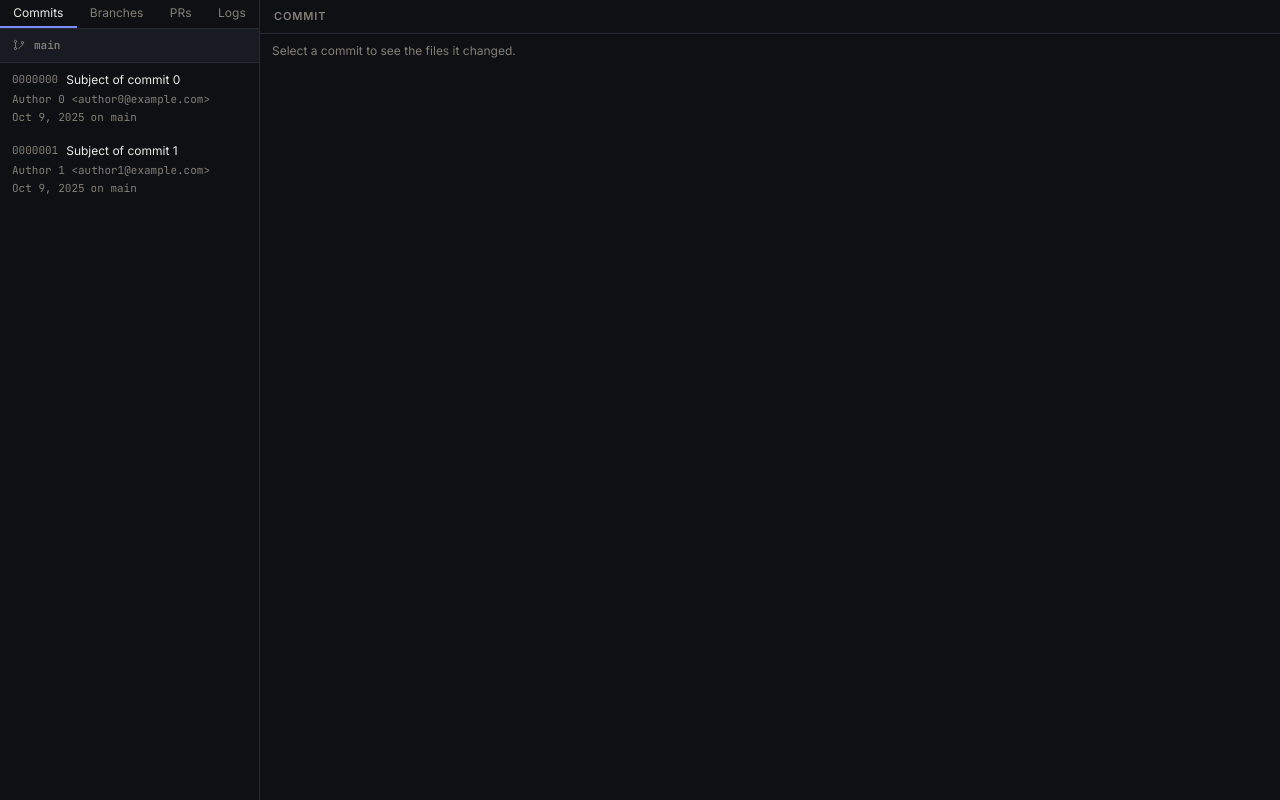
Test: selecting a branch (GIT-FR-LNEI) › GIT-FR-LNEI: a reload that still holds the selected branch keeps the selection, the file and the diff
Click the tab "Branches": {"x": 117, "y": 12} [90,5,143,20]
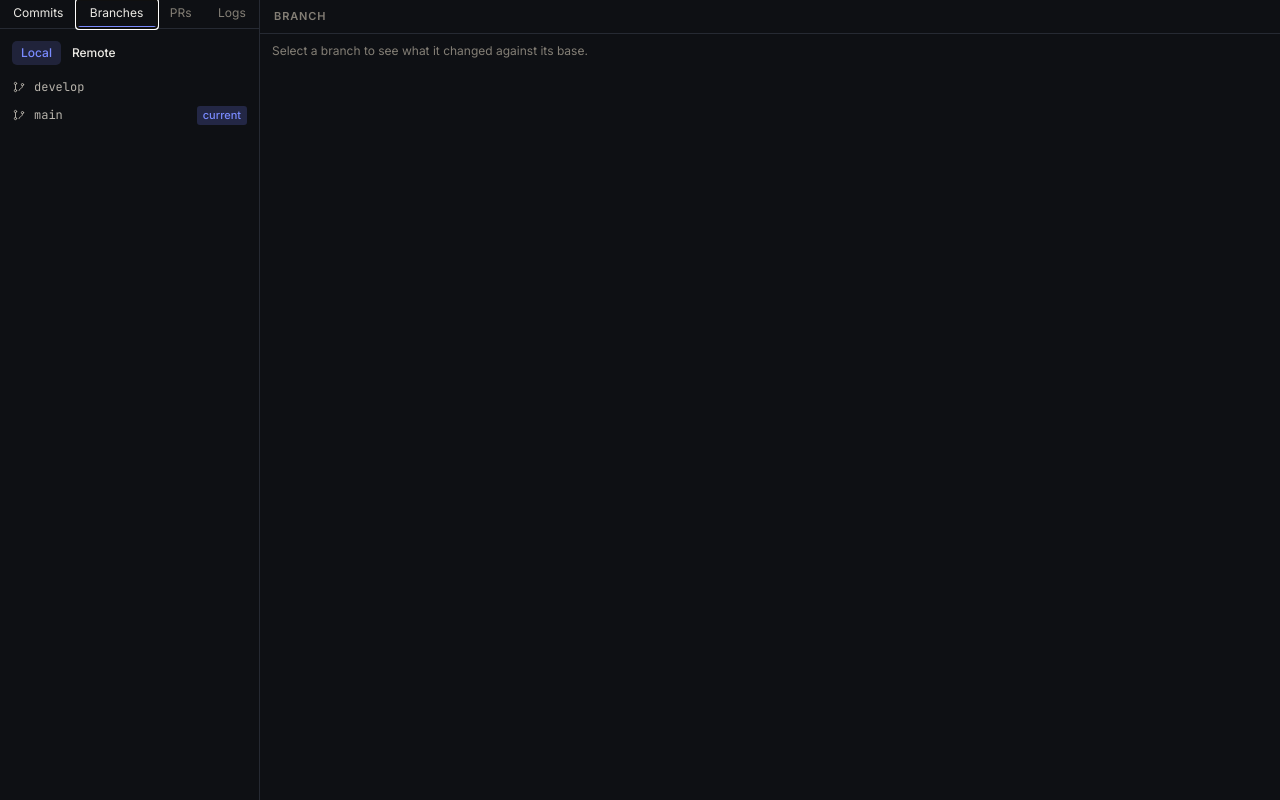
Now the text "develop" is shown, box [34,79,84,95]
Click the button "develop": {"x": 48, "y": 87} [12,79,84,95]
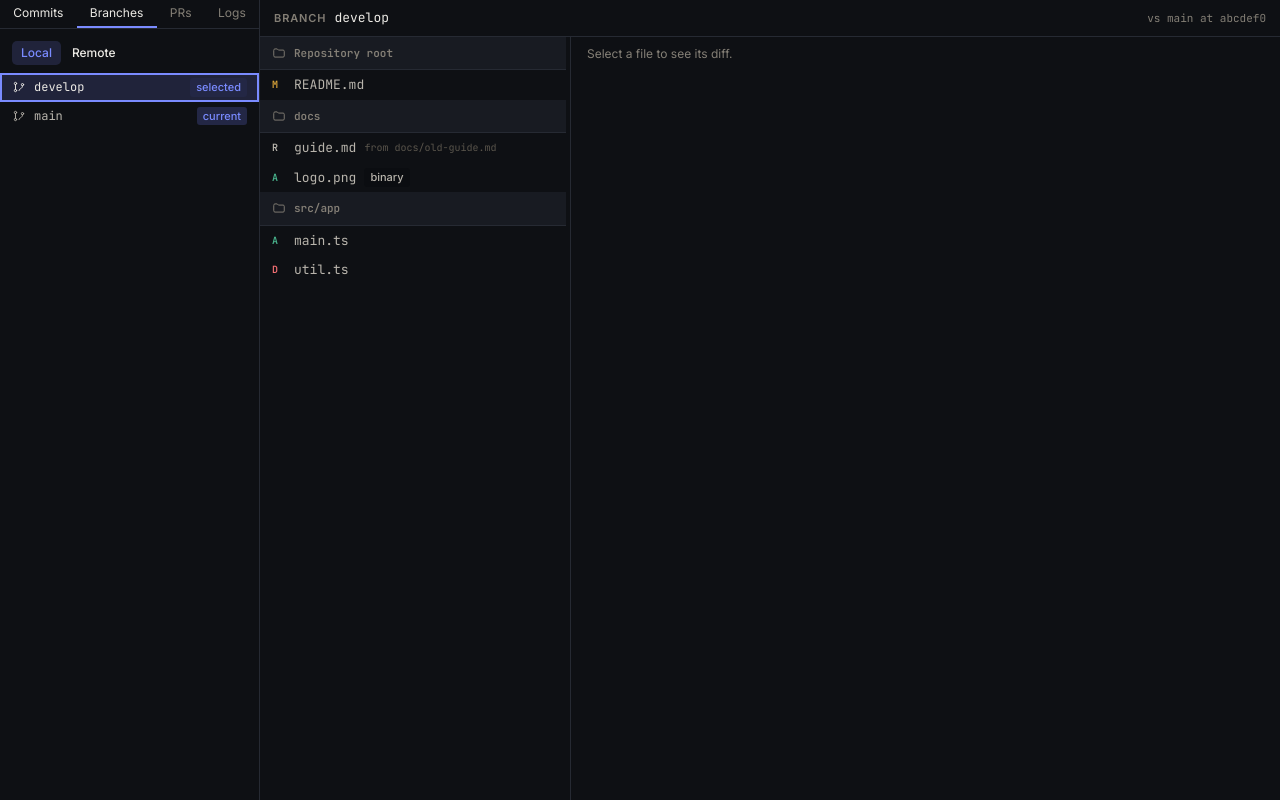
Click the text "main.ts": {"x": 321, "y": 240} [294,230,349,250]
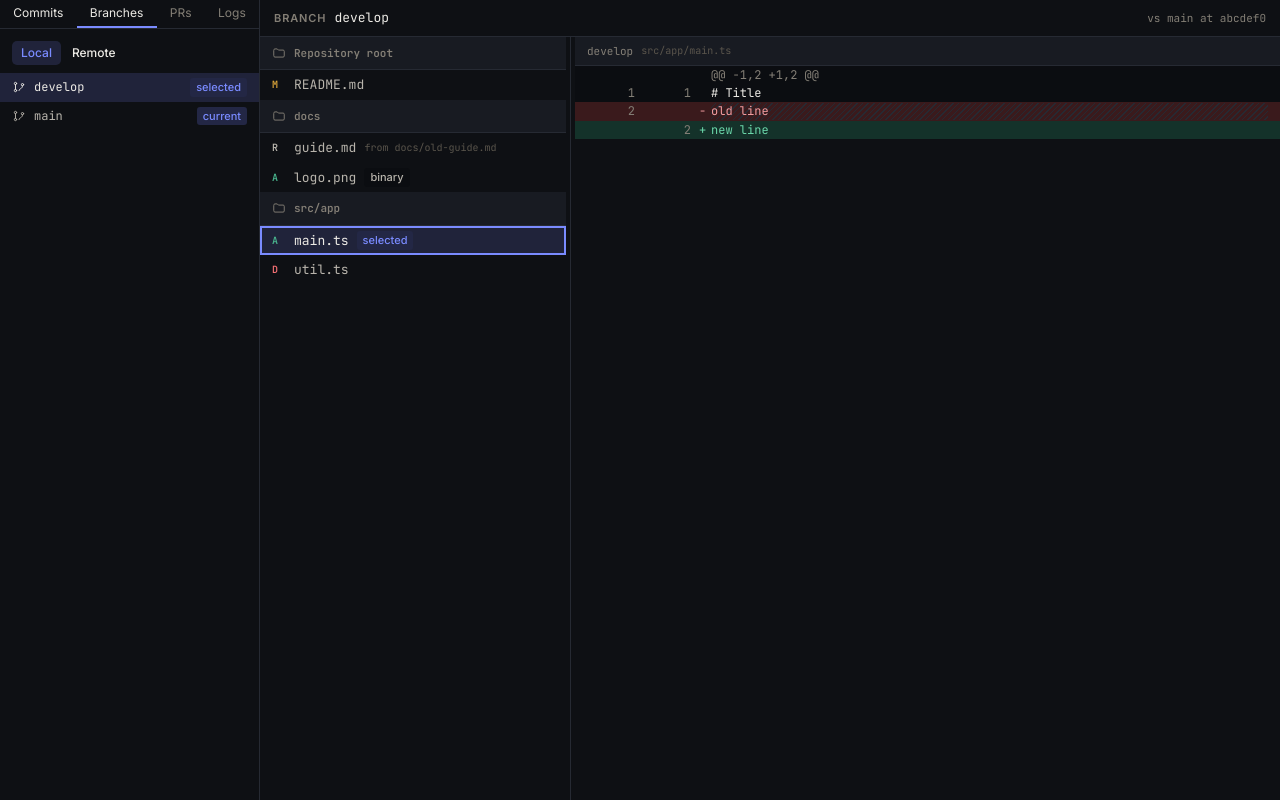
Now the button with test id "git-branch-selected" shows "develop", box [0,73,259,102]
Now the text "new line" is shown, box [711,122,769,138]
